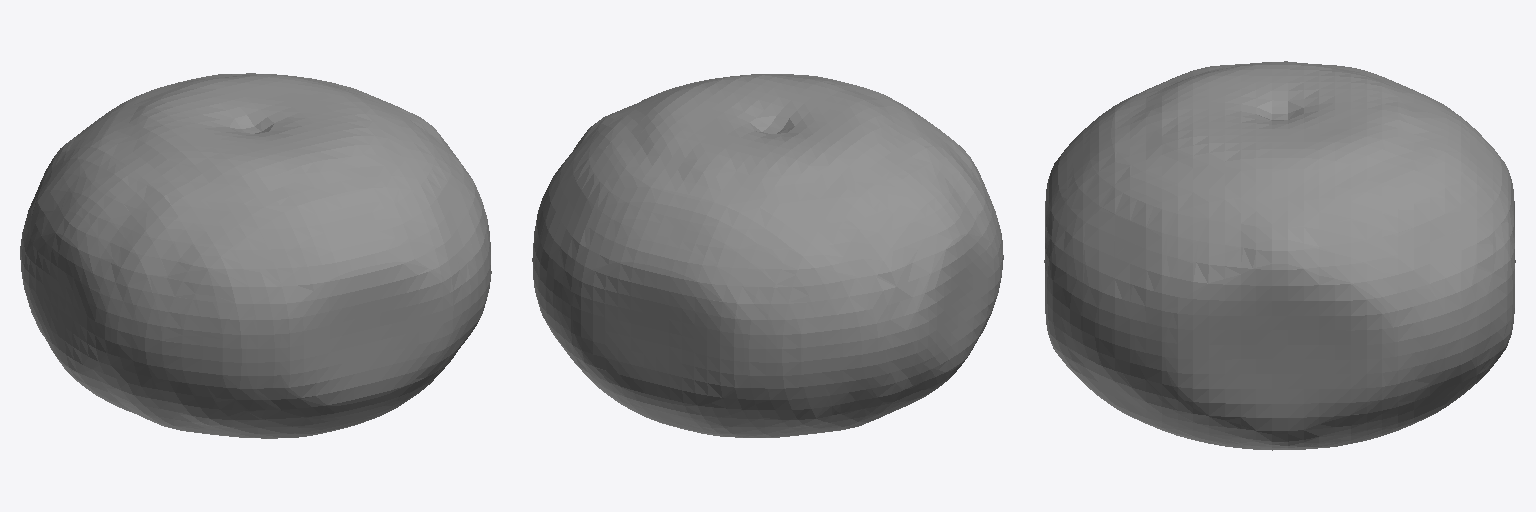
The robot description file, URDF, robot "cube.urdf":
<?xml version="0.0" ?> 
<robot name="cube.urdf"> 
<link name="legobrick"> 
<contact> 
<lateral_friction value="5.0"/> 
<rolling_friction value="0.0"/> 
<contact_cfm value="0.0"/> 
<contact_erp value="1.0"/> 
</contact> 
<inertial> 
<origin rpy="0 0 0" xyz="0.0 0.0 0.0"/> 
<mass value=".01"/> 
<inertia ixx="1" ixy="0" ixz="0" iyy="1" iyz="0" izz="1"/> 
</inertial> 
<visual> 
<origin rpy="1.570796 0 0" xyz="-0.02634557677822784 0.025858239154023136 -0.025858427007252754"/> 
<geometry> 
<mesh filename="M01_0.obj" scale="0.0005601267483372603 0.0005601267483372603 0.0005601267483372603"/> 
</geometry> 
<material name="yellow"> 
<color rgba="0.6 0.6 0.6 1"/> 
</material> 
</visual> 
<collision> 
<origin rpy="1.570796 0 0" xyz="-0.02634557677822784 0.025858239154023136 -0.025858427007252754"/> 
<geometry> 
<mesh filename="M01_0.obj" scale="0.0005601267483372603 0.0005601267483372603 0.0005601267483372603"/> 
</geometry> 
</collision> 
</link> 
</robot>

--- Facts derived from the render (not from the file) ---
3 views of the same robot in one strip: view 1: azimuth 30°, elevation 25°; view 2: azimuth 150°, elevation 25°; view 3: azimuth 270°, elevation 25° (orthographic).
Robot: cube.urdf — 1 links, 0 joints (none); root link legobrick; default pose: all joints at 0.
Links seen in each view (by area): view 1: legobrick; view 2: legobrick; view 3: legobrick.
Boxes of the visible links, bbox=[...] form: legobrick: bbox=[20, 73, 491, 438]; legobrick: bbox=[532, 74, 1003, 437]; legobrick: bbox=[1044, 61, 1515, 450].
Size in the robot's own frame: 0.056 by 0.056 by 0.0387 metres.
1 mesh visuals loaded from 1 distinct referenced files (1 OBJ).
